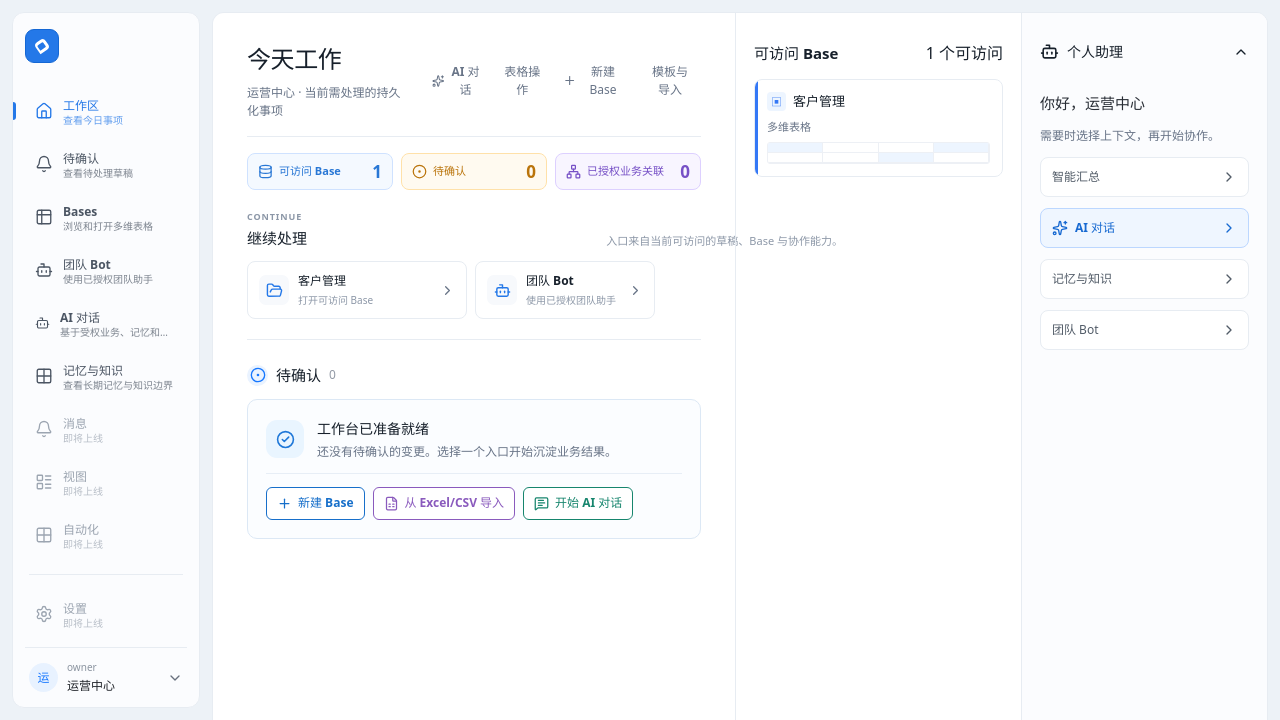
keeps the field drawer open when a receipt field is absent from the fresh safe schema
Click the link "▣ 客户管理 多维表格".
click(878, 128)  # box [754, 79, 1003, 177]
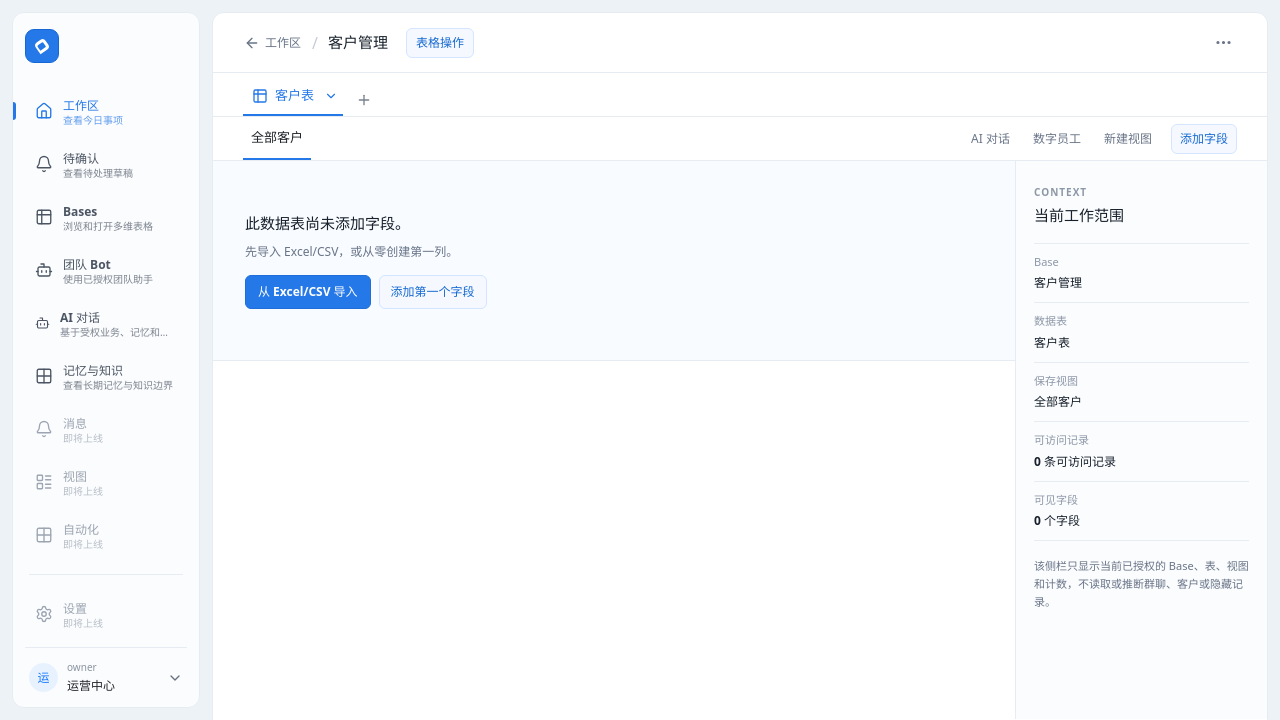
Click the button "添加第一个字段".
click(433, 292)  # box [379, 275, 487, 309]
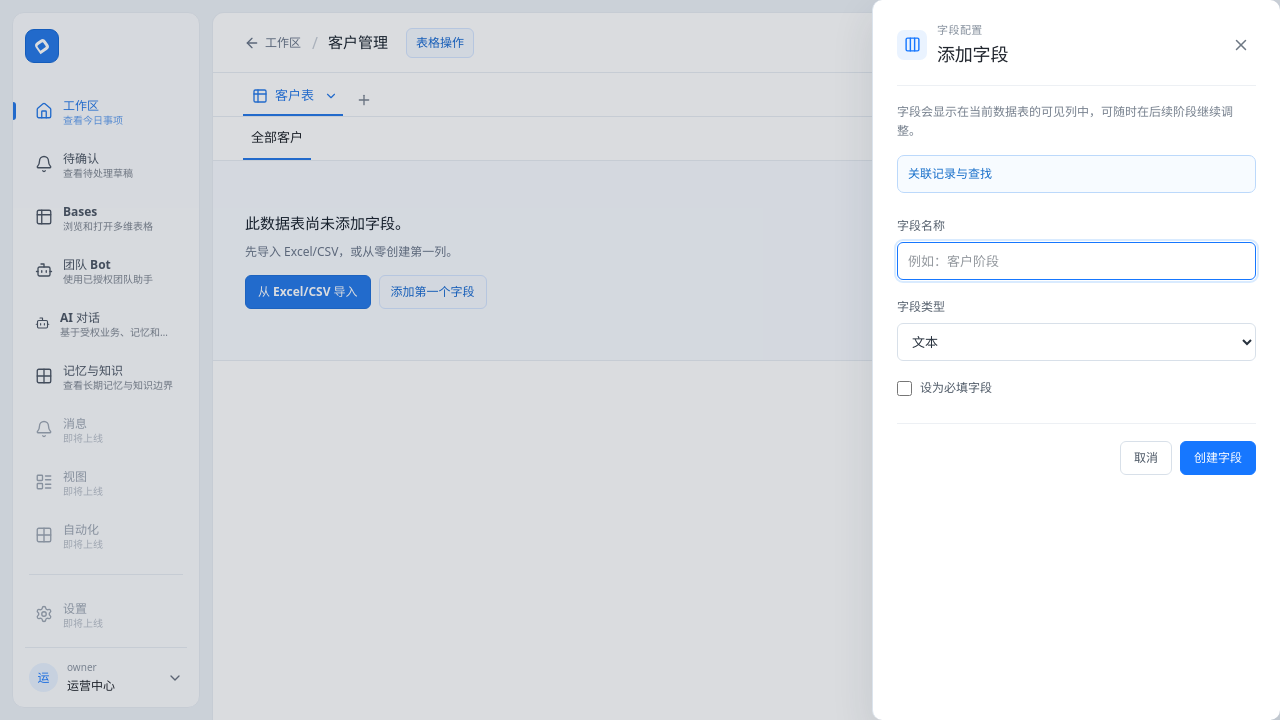
Type "客户阶段" into the field labelled "字段名称".
click(1076, 261); type("客户阶段")  # box [897, 242, 1256, 280]
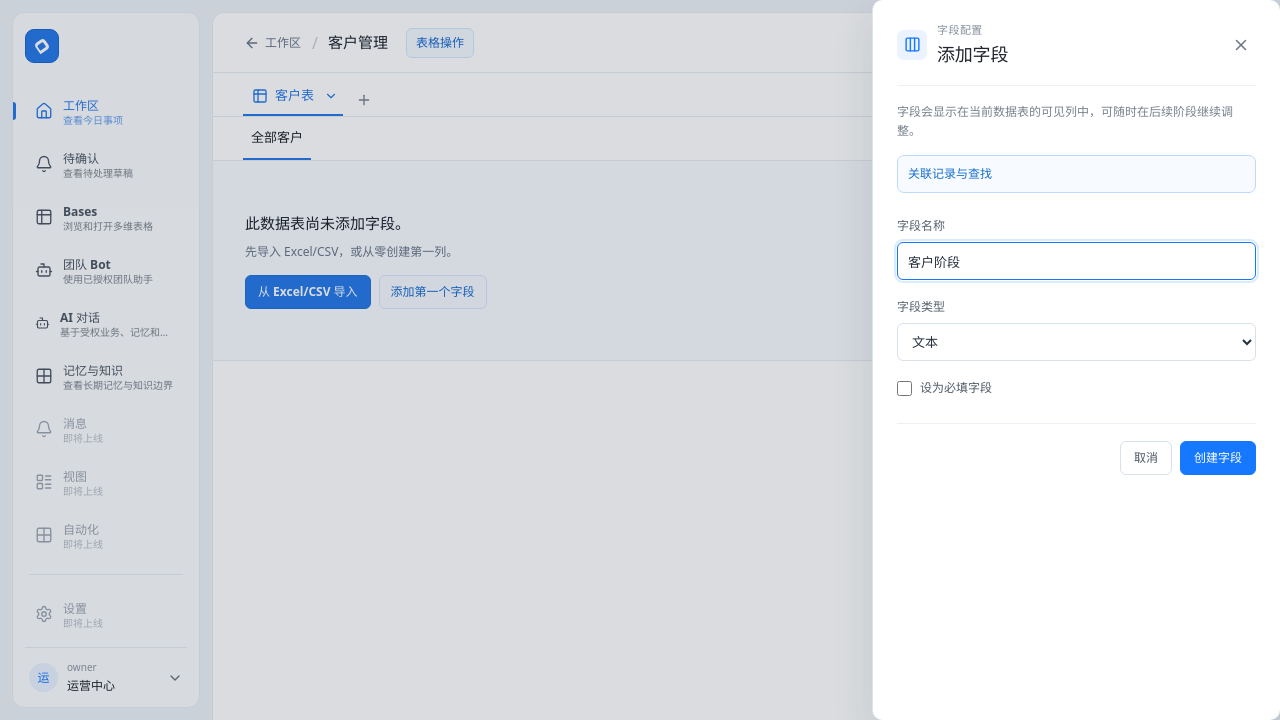
Click the button "创建字段".
click(1218, 458)  # box [1180, 441, 1256, 475]
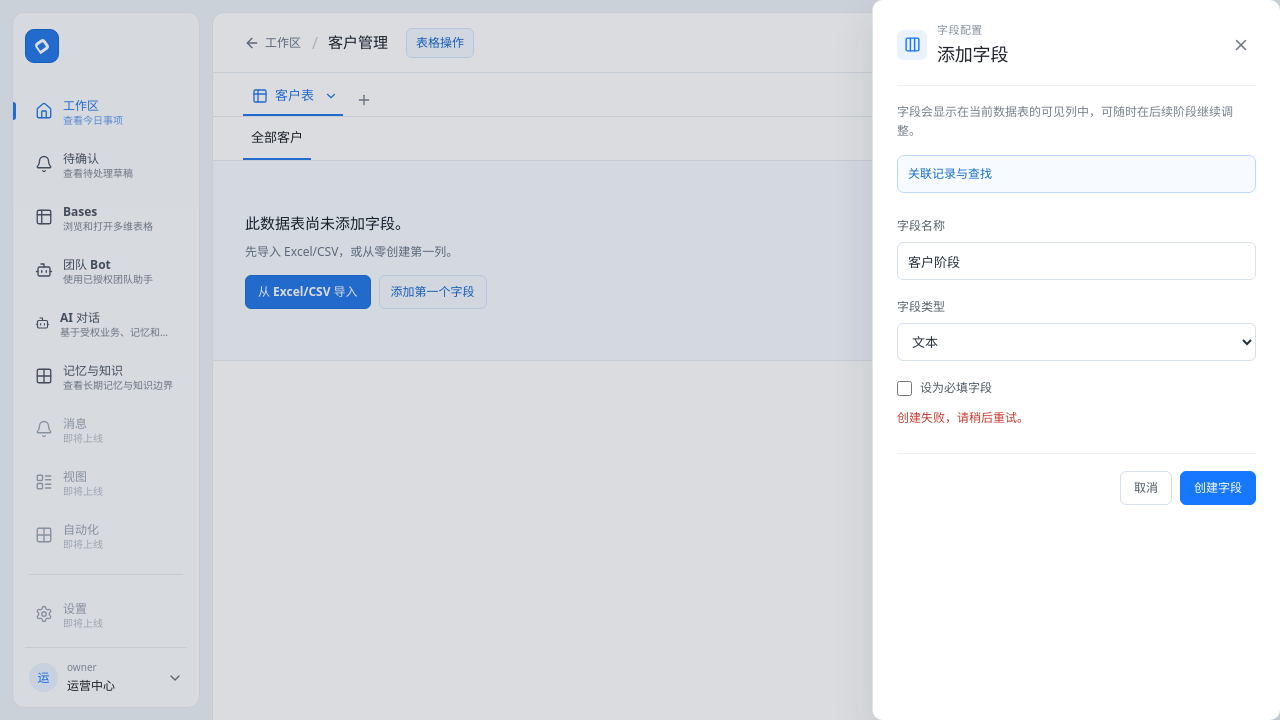
Now the dialog "添加字段" is shown, box [872, 0, 1279, 719]
Now the message reads "创建失败，请稍后重试。", box [897, 409, 1029, 426]
